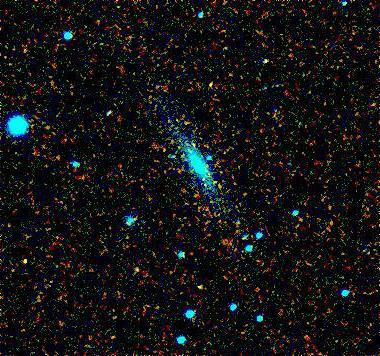star: (212, 38, 242, 68)
